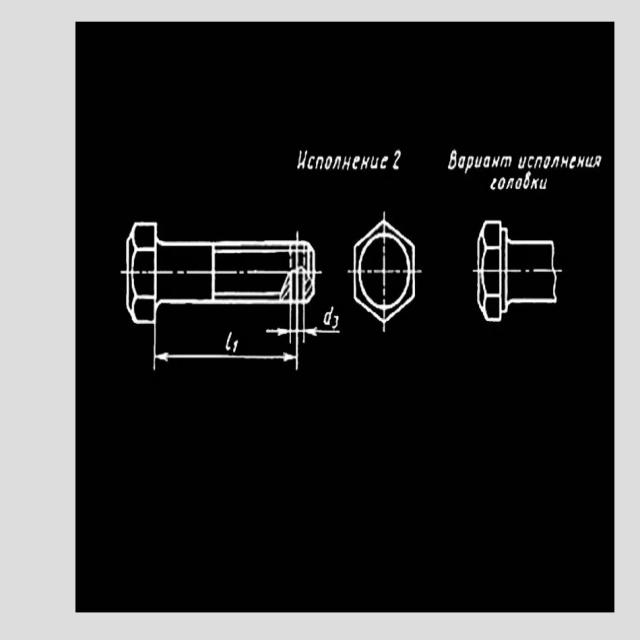marking_line: (152, 327, 300, 370), (302, 305, 340, 345), (267, 305, 292, 343)
numeric: (392, 149, 401, 173), (323, 306, 333, 325), (332, 314, 339, 331)
